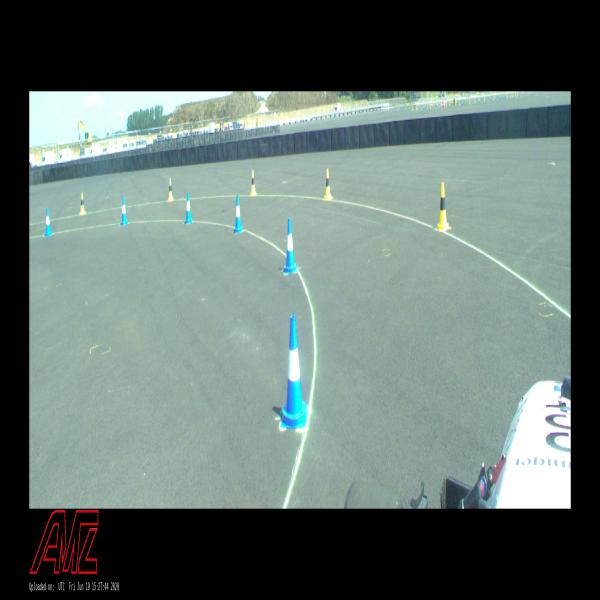blue_cone: (281, 314, 308, 428), (284, 218, 298, 274), (232, 195, 244, 234), (184, 192, 192, 224), (44, 207, 52, 237), (120, 196, 128, 226)
yellow_cone: (435, 182, 451, 232), (323, 167, 333, 201), (249, 169, 256, 195), (79, 193, 86, 216), (168, 178, 174, 202)
